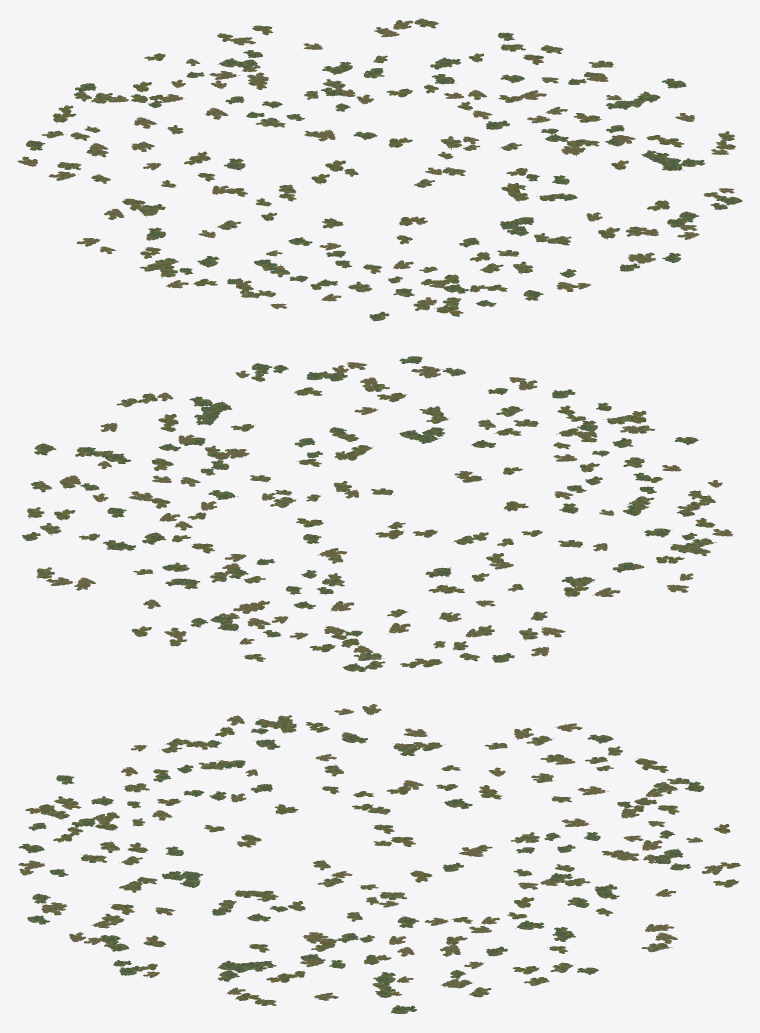
Rendered from aulne_adulte_a.fbx.
The picture shows the model from 3 angles, top to bottom: view 1: azimuth 30°, elevation 25°; view 2: azimuth 150°, elevation 25°; view 3: azimuth 270°, elevation 25°; orthographic projection. The views are drawn at different scales.
Parts seen in each view (by area): view 1: aulne_adulte_a_feuilles_sol; view 2: aulne_adulte_a_feuilles_sol; view 3: aulne_adulte_a_feuilles_sol.
Part boxes in pixels (bbox=[...]): aulne_adulte_a_feuilles_sol: bbox=[17, 18, 742, 321]; aulne_adulte_a_feuilles_sol: bbox=[22, 356, 733, 671]; aulne_adulte_a_feuilles_sol: bbox=[18, 704, 740, 1014].
Size of what is drawn, in the model's own units: 9.81 by 0.00598 by 9.58.
